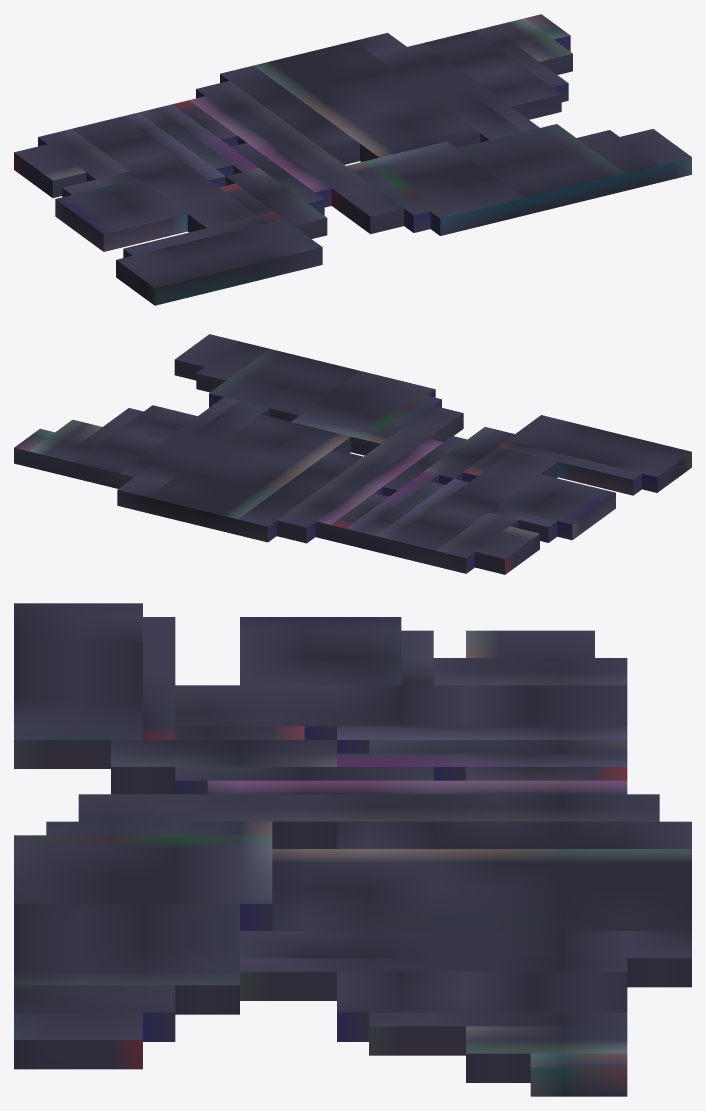
File: BillboardModule_ChineseSymbol_C_00.fbx
3 renders of one model, top to bottom at view 1: azimuth 30°, elevation 25°; view 2: azimuth 150°, elevation 25°; view 3: azimuth 270°, elevation 25°, orthographic. The views are drawn at different scales.
Parts seen in each view (by area): view 1: BillboardModule_ChineseSymbol_C_00; view 2: BillboardModule_ChineseSymbol_C_00; view 3: BillboardModule_ChineseSymbol_C_00.
Part boxes in pixels (x1,y1,x2,y2): BillboardModule_ChineseSymbol_C_00: (14, 14, 691, 305); BillboardModule_ChineseSymbol_C_00: (14, 334, 691, 574); BillboardModule_ChineseSymbol_C_00: (14, 603, 691, 1096).
Size of the model in its own units: 170 by 5 by 105.
